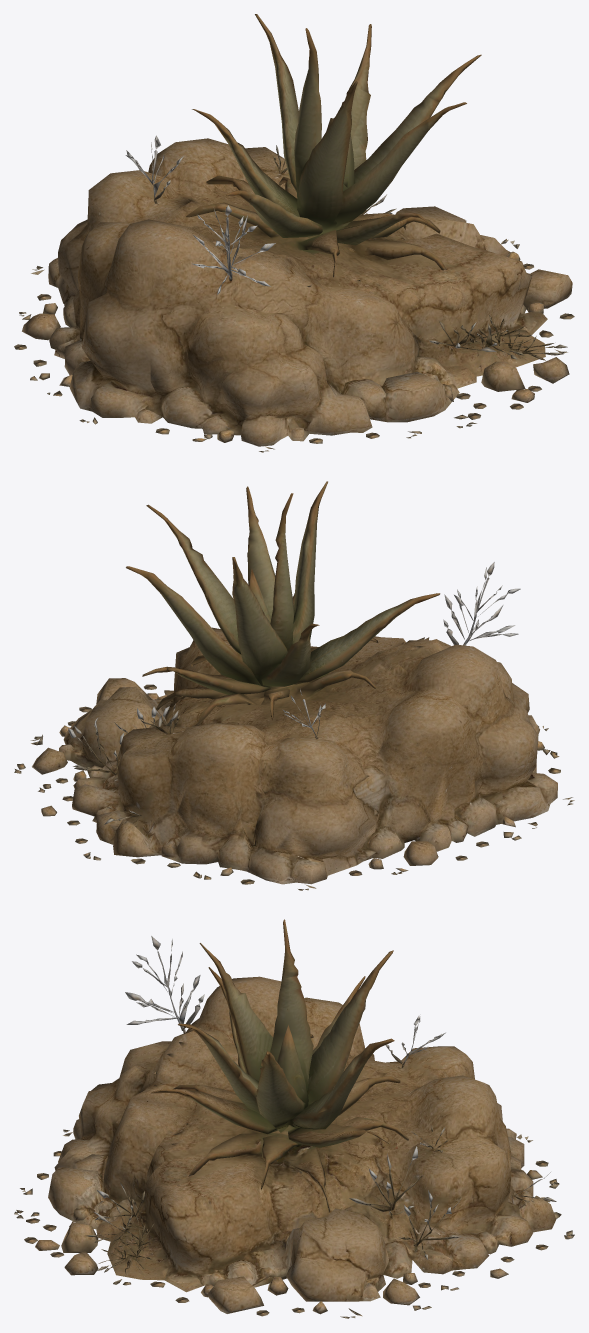
File: plant.glb
3 renders of one model, top to bottom at view 1: azimuth 30°, elevation 25°; view 2: azimuth 150°, elevation 25°; view 3: azimuth 270°, elevation 25°, orthographic. The views are drawn at different scales.
Parts seen in each view (by area): view 1: tripo_node_a581c721-da76-458b-b1f0-a736787b35ca; view 2: tripo_node_a581c721-da76-458b-b1f0-a736787b35ca; view 3: tripo_node_a581c721-da76-458b-b1f0-a736787b35ca.
Boxes of the visible parts, x1=… form: tripo_node_a581c721-da76-458b-b1f0-a736787b35ca: x1=14, y1=14, x2=574, y2=452; tripo_node_a581c721-da76-458b-b1f0-a736787b35ca: x1=14, y1=481, x2=574, y2=890; tripo_node_a581c721-da76-458b-b1f0-a736787b35ca: x1=14, y1=919, x2=574, y2=1318.
Size of the model in its own units: 0.998 by 0.5645 by 0.998.
1 material, 1 textured.
